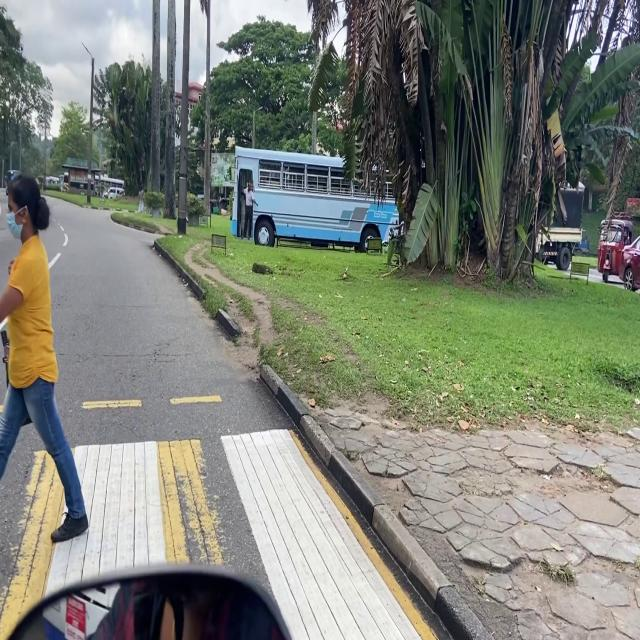bus: (231, 146, 398, 251), (100, 175, 124, 190)
car: (619, 236, 640, 291)
person: (0, 175, 88, 542), (244, 183, 256, 239), (138, 190, 144, 212)
three wheeler: (598, 218, 634, 283)
truck: (537, 188, 584, 271), (574, 231, 589, 254)
van: (5, 170, 19, 194), (103, 186, 124, 200)
